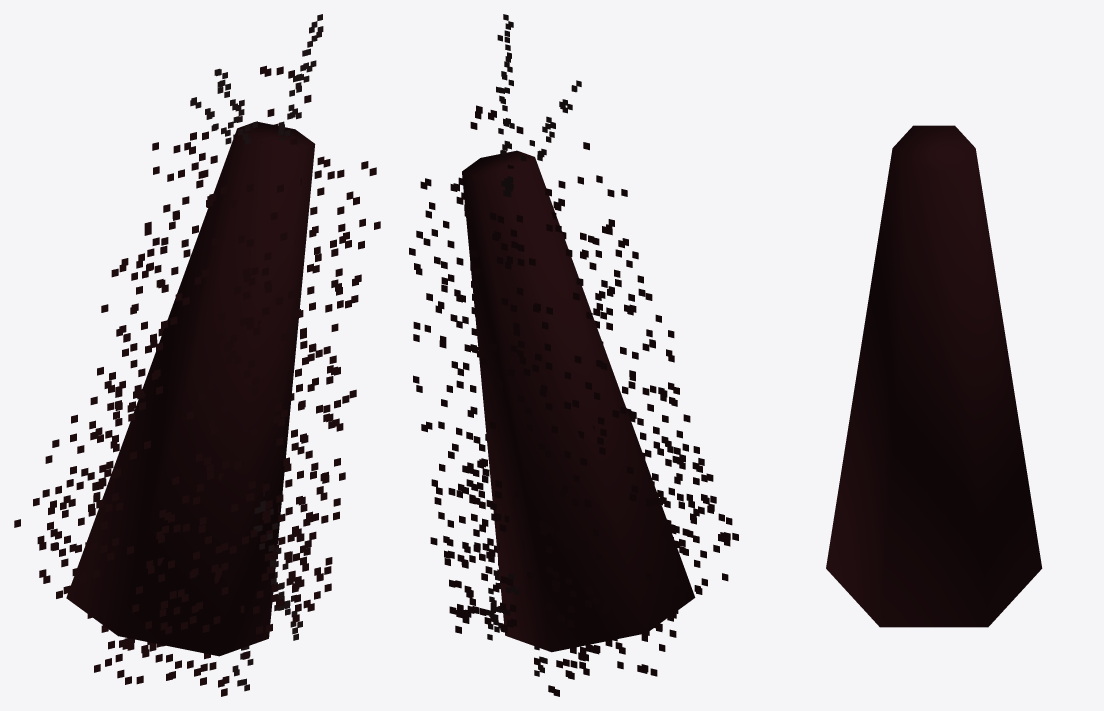
File: soft_ice.glb
3 renders of one model, left to right at view 1: azimuth 30°, elevation 25°; view 2: azimuth 150°, elevation 25°; view 3: azimuth 270°, elevation 25°, orthographic. The views are drawn at different scales.
Visible parts, largest first — view 1: ice_aura_shell1, ice_pts, ice_lines; view 2: ice_aura_shell1, ice_pts, ice_lines; view 3: ice_aura_shell1.
Part boxes in pixels (box(x1,y1,x2,y2)): ice_aura_shell1: box(66, 122, 315, 656); ice_pts: box(14, 65, 380, 696); ice_lines: box(190, 14, 323, 691); ice_aura_shell1: box(462, 150, 695, 652); ice_pts: box(409, 105, 738, 696); ice_lines: box(479, 14, 581, 676); ice_aura_shell1: box(826, 125, 1042, 627).
Size of the model in its own units: 1.04 by 2.06 by 0.8515.
